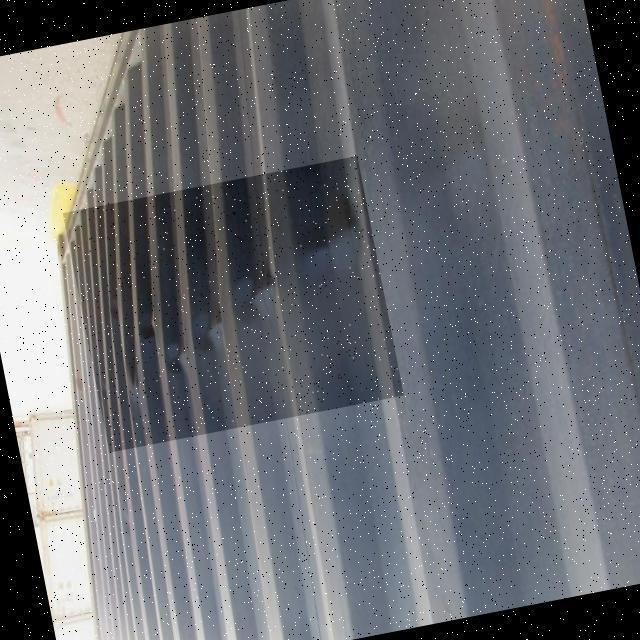dent: (64, 156, 405, 453)
